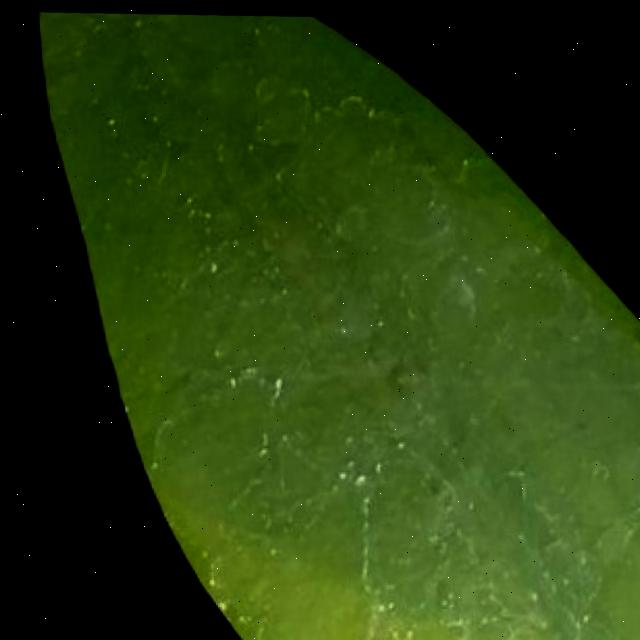mite: (102, 116, 119, 128), (634, 326, 640, 343)
spots: (35, 11, 640, 640)
